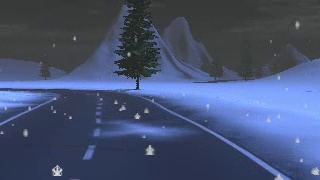Lane: (0, 88, 285, 179)
